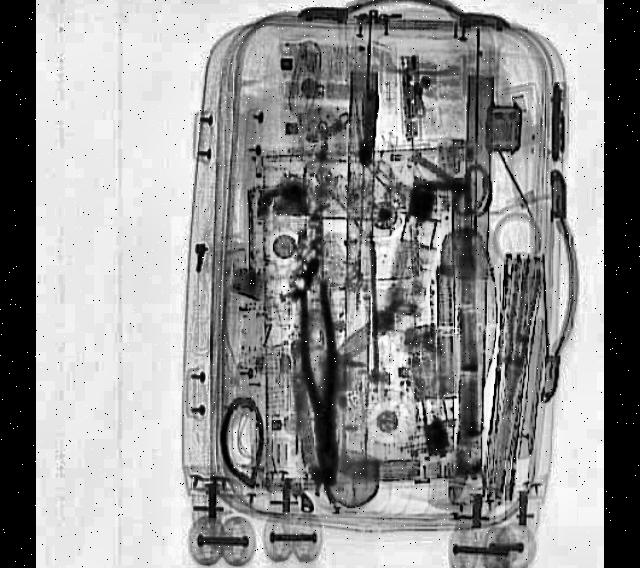Pliers: (294, 279, 346, 481)
